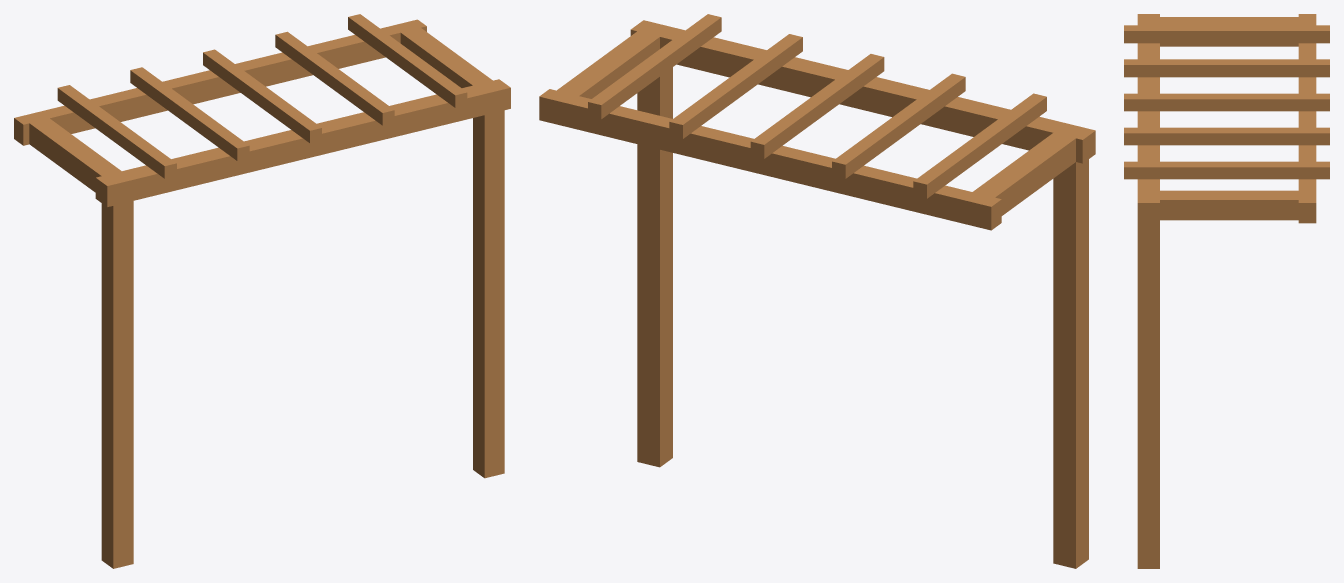
Rendered from pergola.glb.
The picture shows the model from 3 angles, left to right: view 1: azimuth 30°, elevation 25°; view 2: azimuth 150°, elevation 25°; view 3: azimuth 270°, elevation 25°; orthographic projection. The views are drawn at different scales.
Visible parts, largest first — view 1: pergola; view 2: pergola; view 3: pergola.
Boxes of the visible parts, bbox=[...] form: pergola: bbox=[14, 14, 510, 568]; pergola: bbox=[539, 14, 1095, 568]; pergola: bbox=[1124, 14, 1329, 568].
Size of the model in its own units: 1 by 0.94 by 0.46.
Materials: 1 (1 with a texture image).
